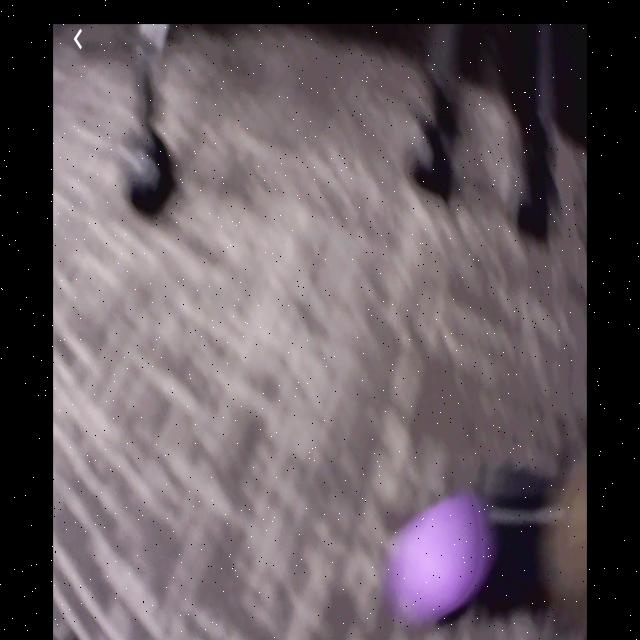ball: (410, 498, 484, 613)
